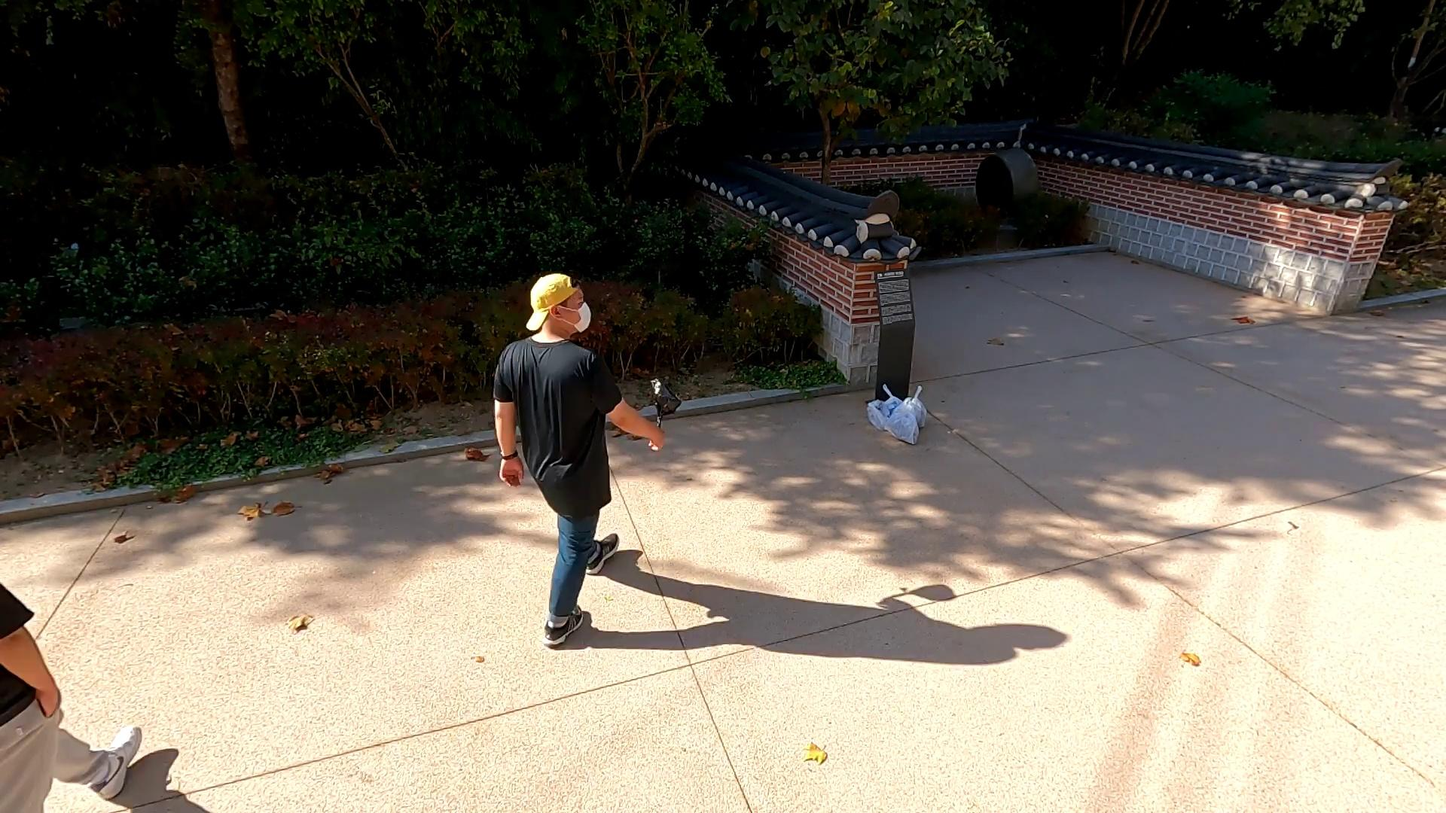person: (478, 269, 682, 647), (0, 560, 153, 813)
trash: (638, 355, 685, 427), (882, 396, 922, 446), (892, 382, 928, 431), (872, 383, 912, 427), (865, 395, 895, 431)
